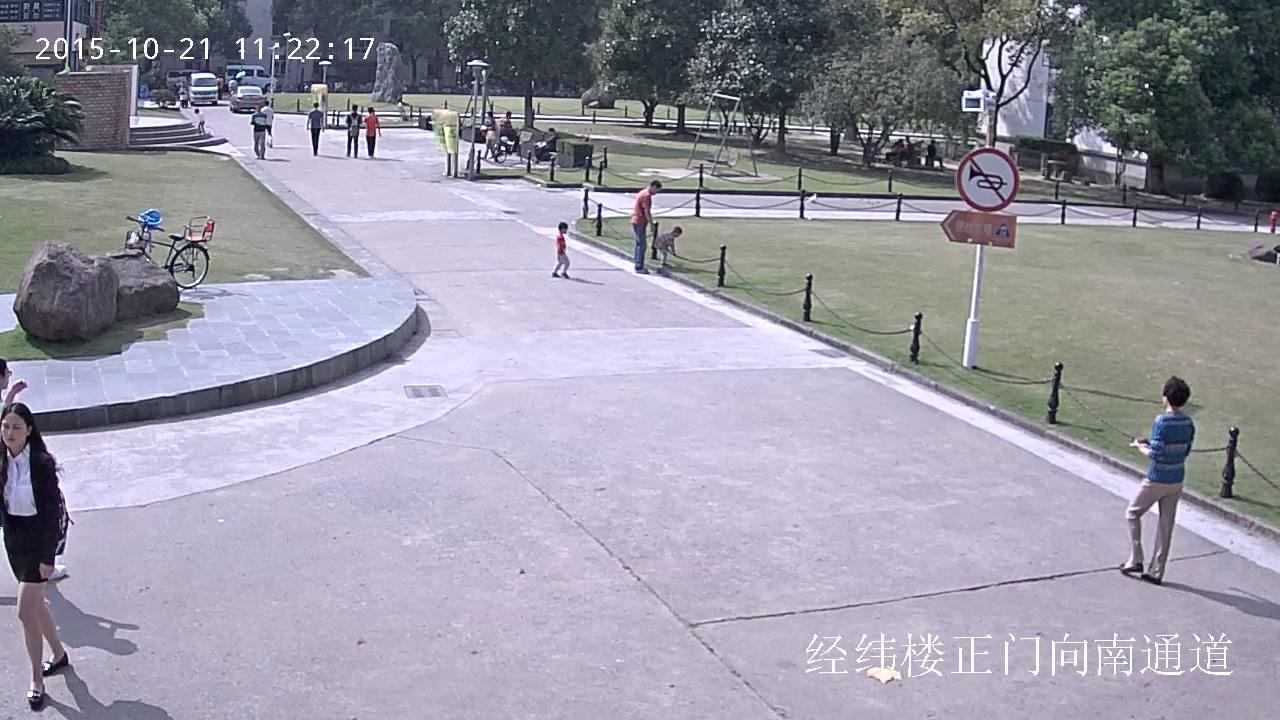person: (0, 402, 74, 710), (1119, 376, 1196, 584), (628, 179, 661, 274), (493, 111, 527, 163), (653, 226, 683, 271), (249, 106, 271, 160), (551, 221, 571, 279), (531, 127, 559, 164), (306, 102, 325, 156), (479, 111, 499, 161), (344, 104, 362, 157), (497, 111, 519, 154), (363, 106, 381, 158), (260, 100, 274, 147), (896, 136, 915, 167), (927, 140, 944, 168), (193, 107, 206, 136)
